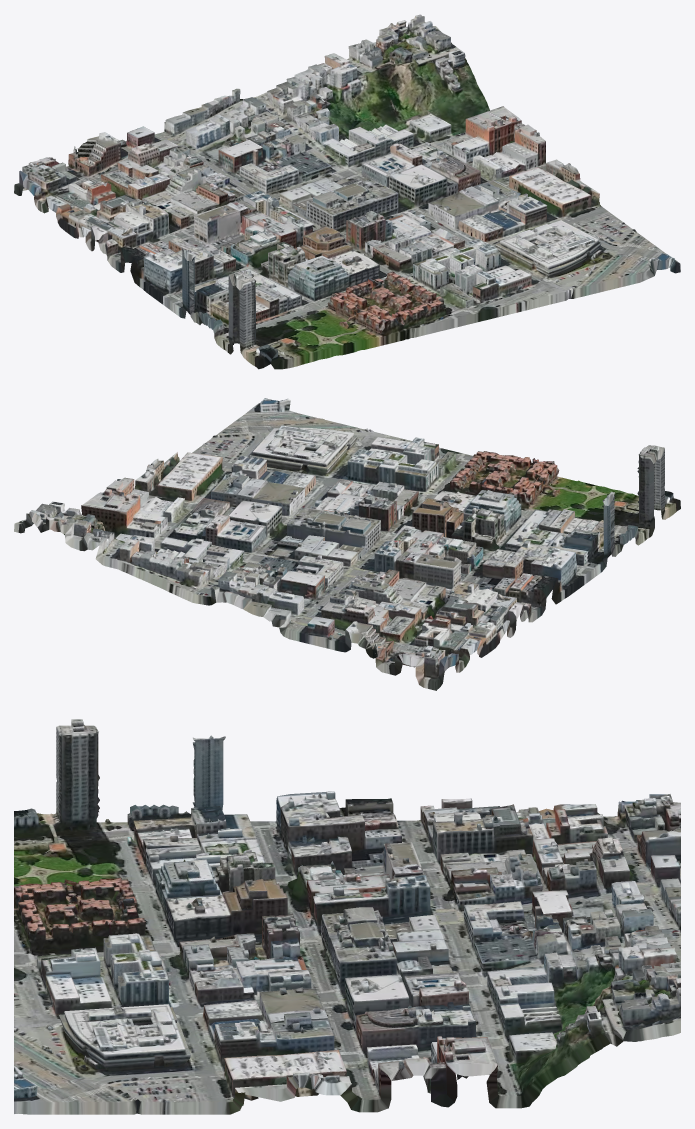
The model's file is z16-10485-25325-h0-yup-uvflip-v3-world.glb.
3 renders of one model, top to bottom at view 1: azimuth 30°, elevation 25°; view 2: azimuth 150°, elevation 25°; view 3: azimuth 270°, elevation 25°, orthographic. The views are drawn at different scales.
Size of the model in its own units: 484 by 92.16 by 485.
Materials: 1 (1 with a texture image).
